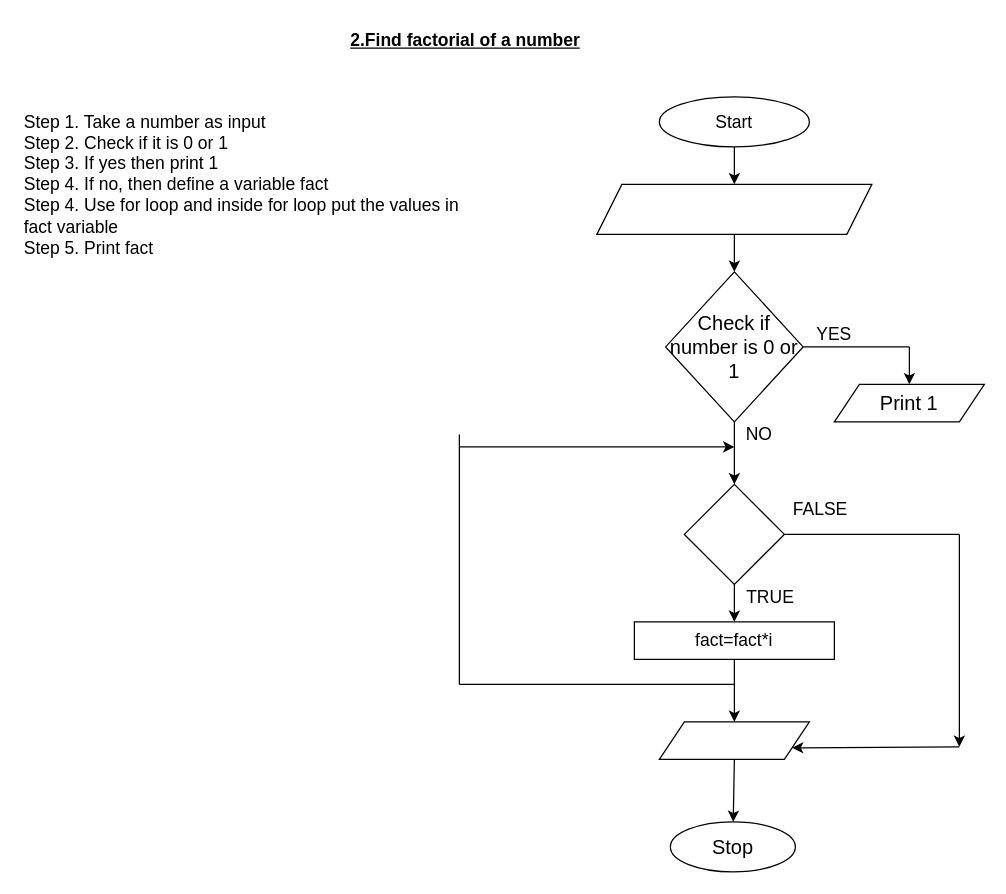
The diagram is 1006 pixels wide and 894 high, and some of its shapes have lost their labels. Each missing label, with the box of its shape:
for loop i<=n: (683, 483, 784, 584)
Print fact: (658, 721, 809, 759)
Take a number n as input: (596, 183, 872, 234)
